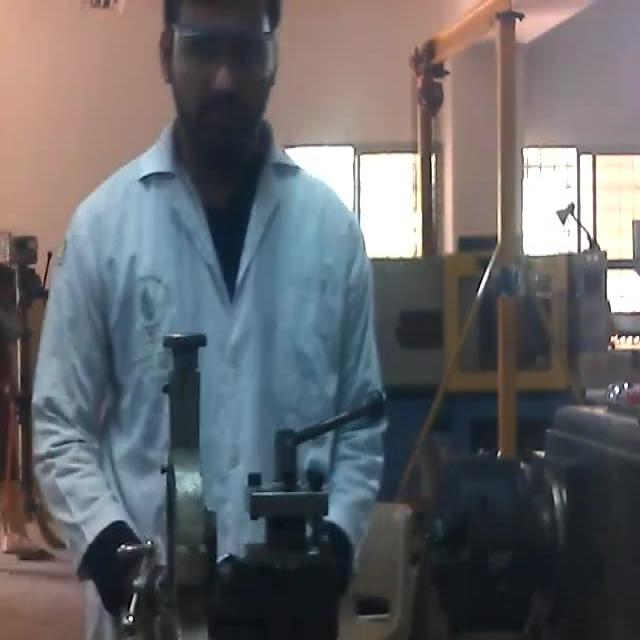labcoat: (28, 102, 392, 638), (171, 18, 279, 85)
